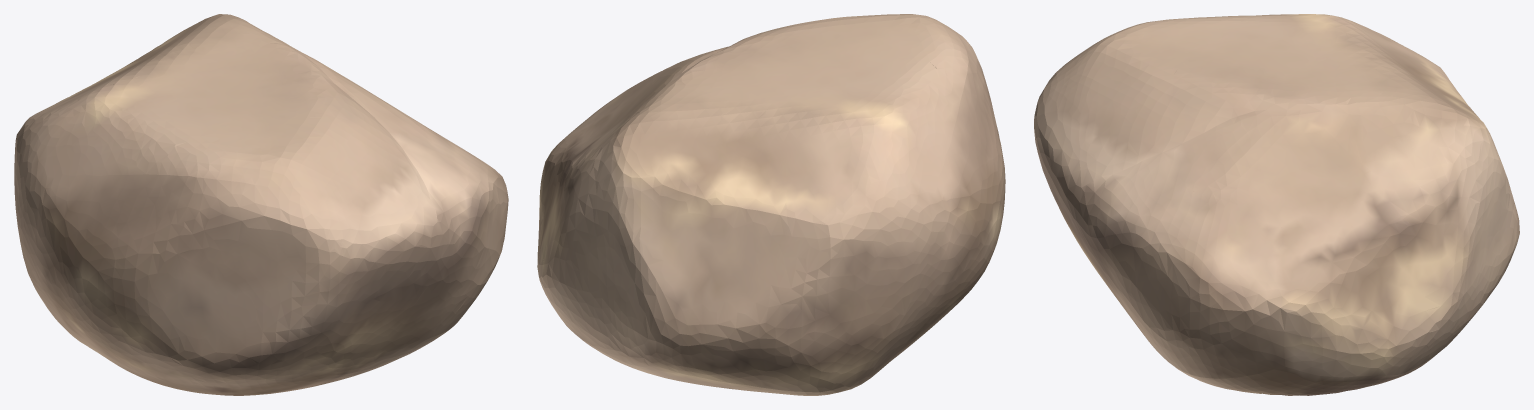
Rendered from Stone 3.fbx.
3 renders of one model, left to right at view 1: azimuth 30°, elevation 25°; view 2: azimuth 150°, elevation 25°; view 3: azimuth 270°, elevation 25°, orthographic. The views are drawn at different scales.
Parts seen in each view (by area): view 1: Stone 3_Baked; view 2: Stone 3_Baked; view 3: Stone 3_Baked.
Part boxes in pixels (<box>): Stone 3_Baked: <box>14,14,508,395</box>; Stone 3_Baked: <box>537,14,1005,395</box>; Stone 3_Baked: <box>1034,14,1519,395</box>.
Bounding box in the file's own units: 31.51 × 19.05 × 32.74.
Materials: 1 (1 with a texture image).
